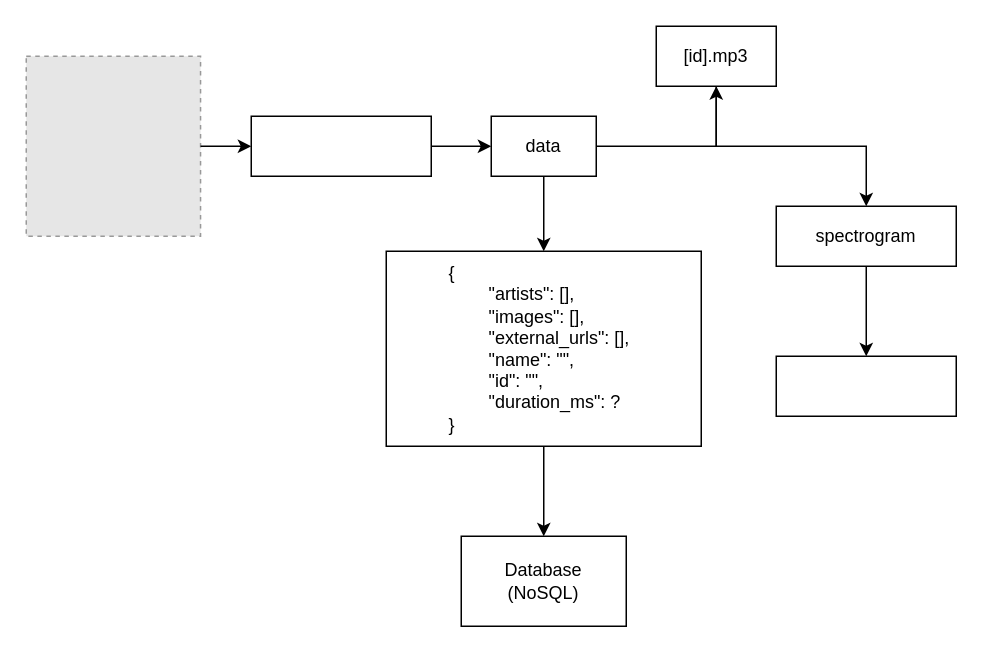
The diagram is 983 pixels wide and 653 high, and some of its shapes have lost their labels. Grey dashed boxes stand in for pictures. Each missing label, with the centre of its shape:
"Hash" belongs at [865,385].
"Spotify API" belongs at [340,145].
